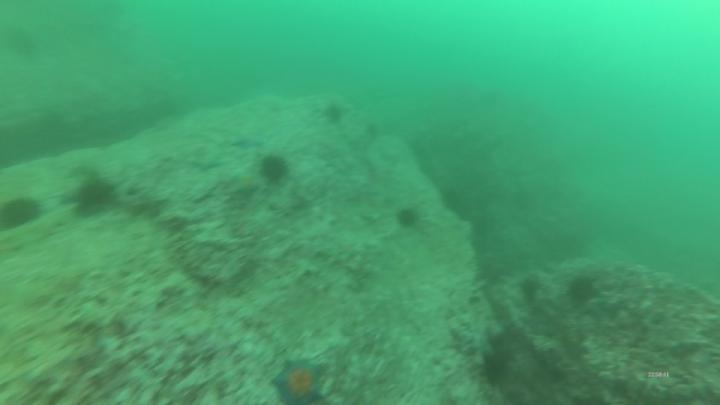echinus: (79, 185, 108, 212), (568, 277, 597, 303), (6, 202, 36, 226), (261, 155, 287, 182), (401, 212, 418, 230)
starfish: (277, 362, 327, 405)
